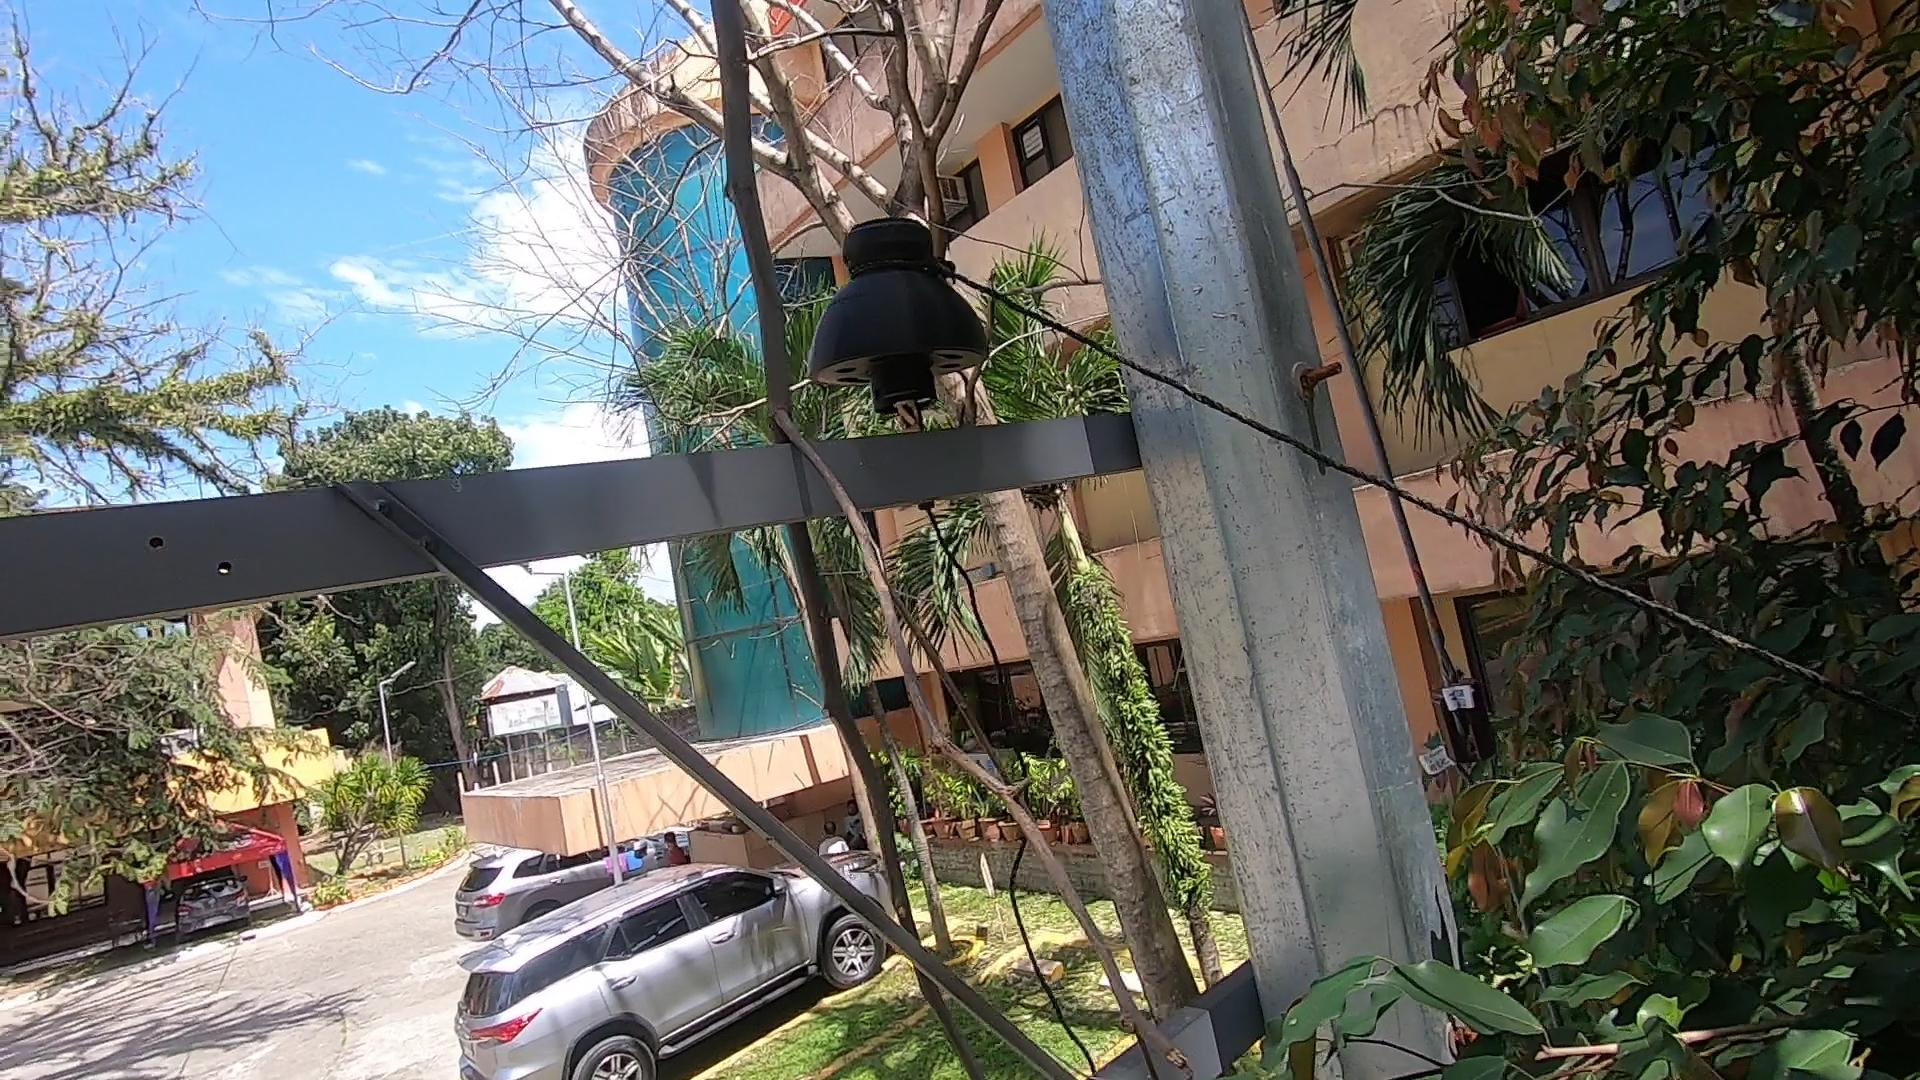tree branch: (673, 3, 1222, 1080)
